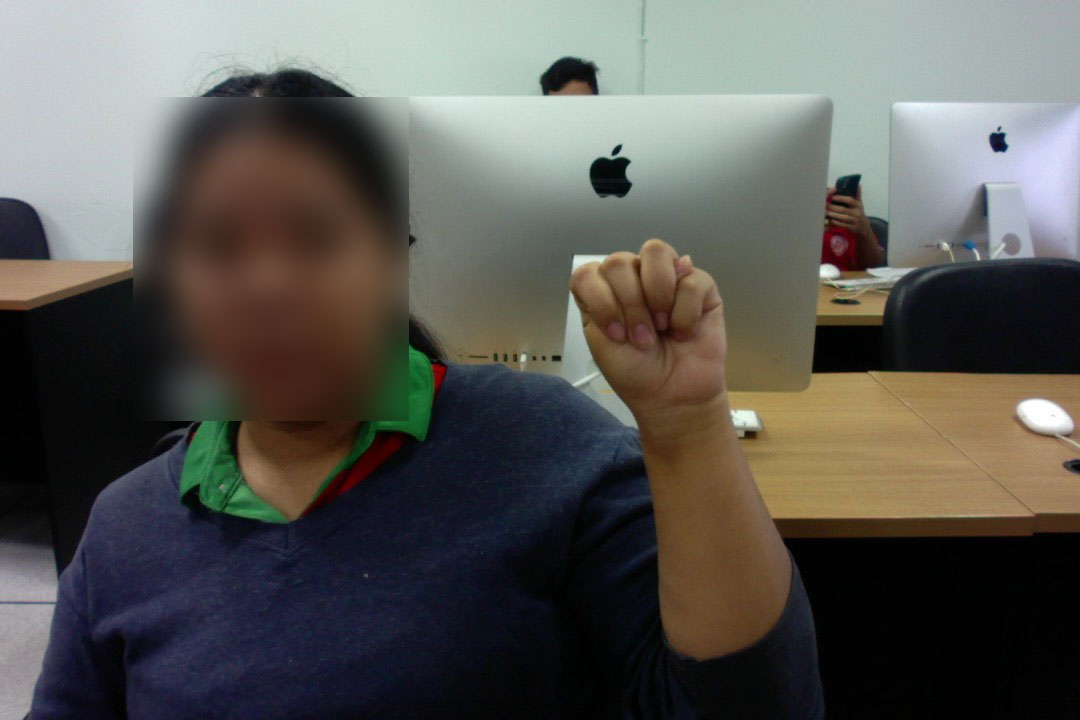mor: (564, 234, 740, 427)
